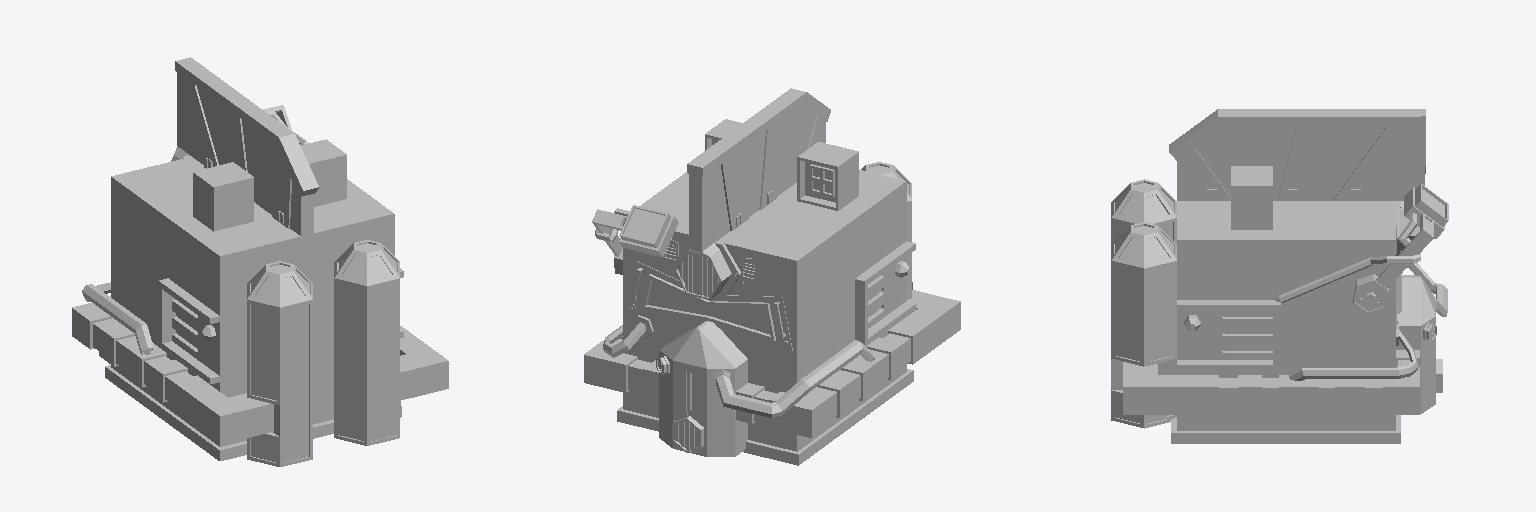
File: t50head.obj
3 views of the same model, side by side, from view 1: azimuth 30°, elevation 25°; view 2: azimuth 150°, elevation 25°; view 3: azimuth 270°, elevation 25° (orthographic).
Bounding box in the file's own units: 1.25 × 1.49 × 1.59.